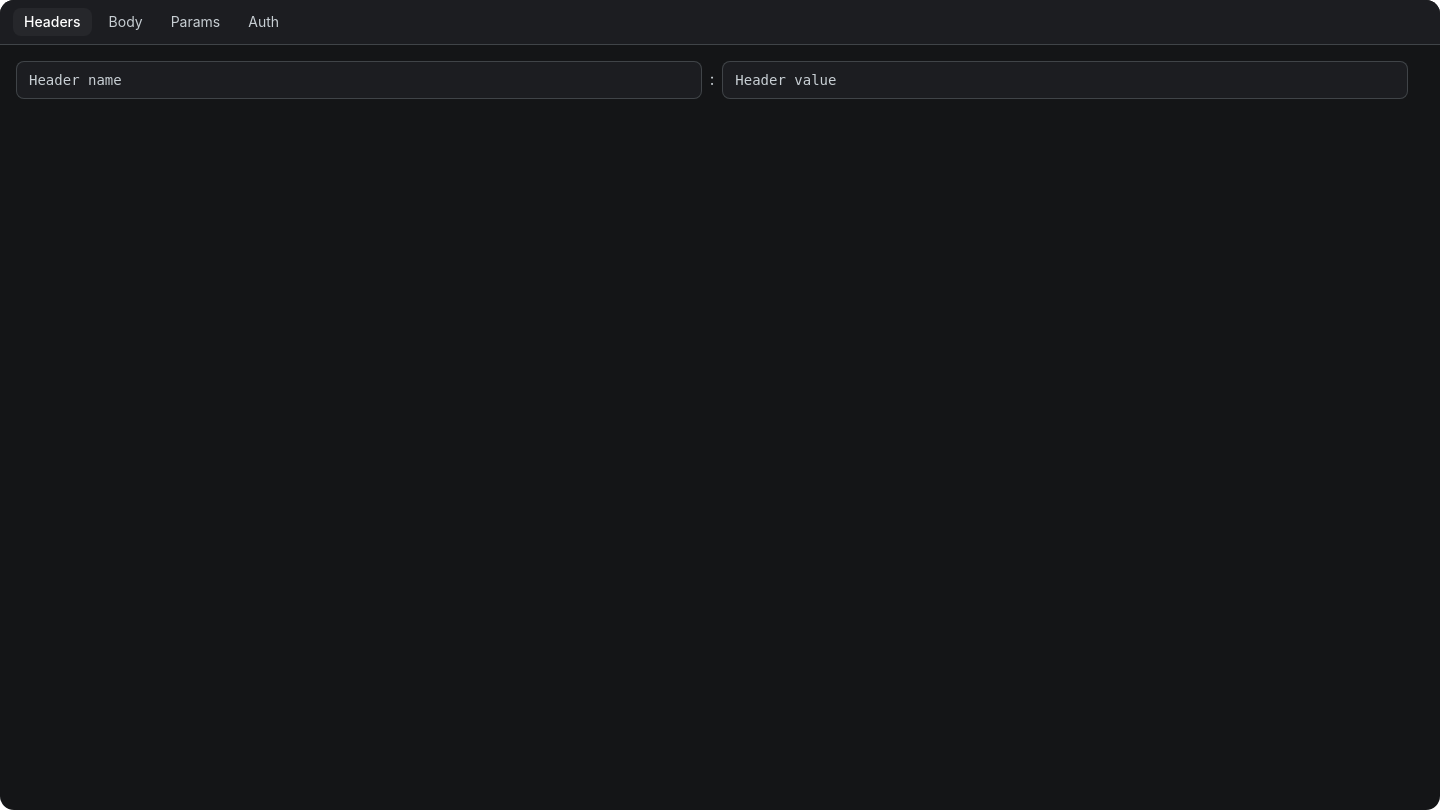
RequestBuilder › switches to Body tab when clicked
Click the tab with test id "request-tab-body" at [126, 22], box [97,8,155,36]
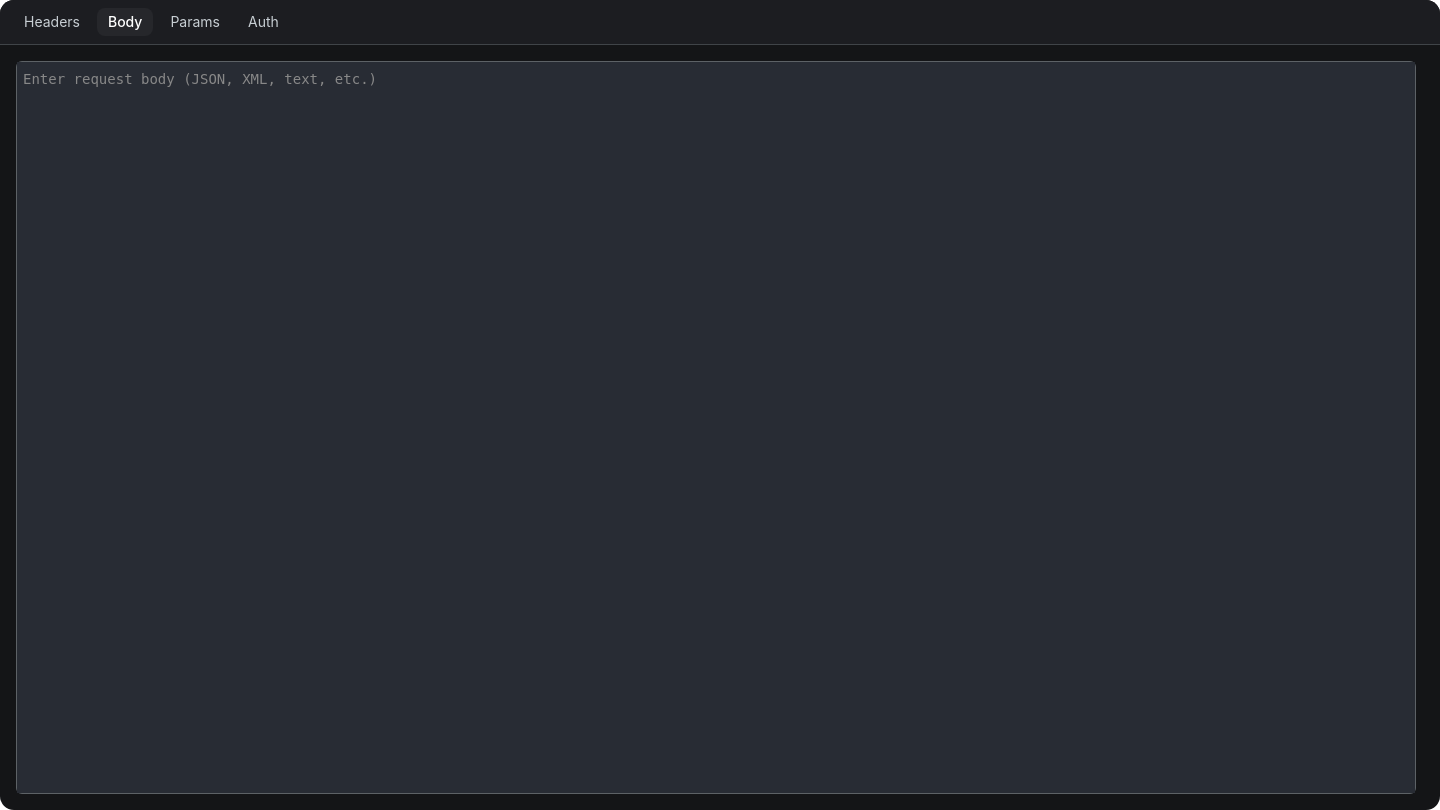
Check: the element with test id "code-editor" is shown
